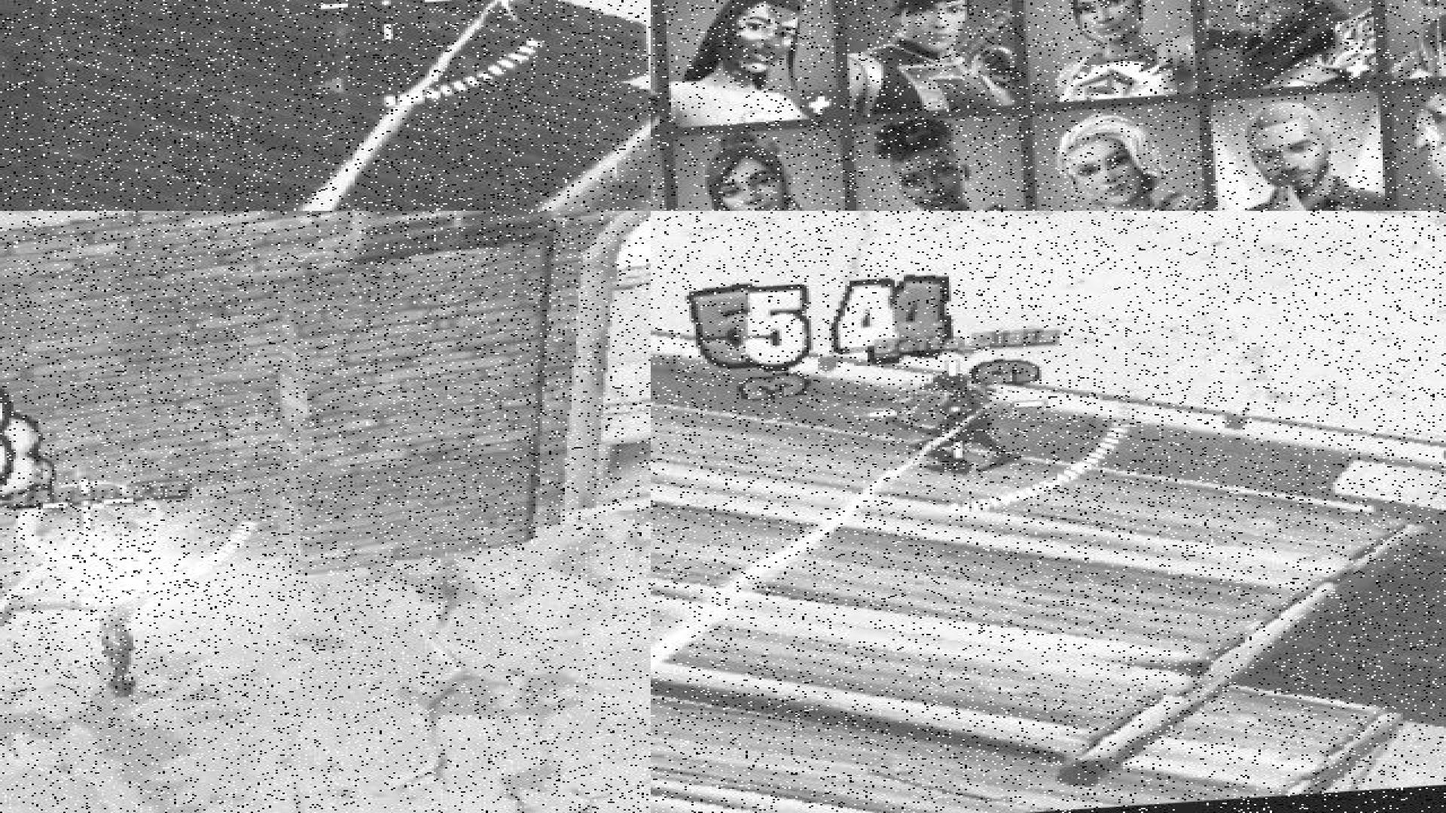player: (0, 535, 151, 718), (896, 381, 1011, 486)
